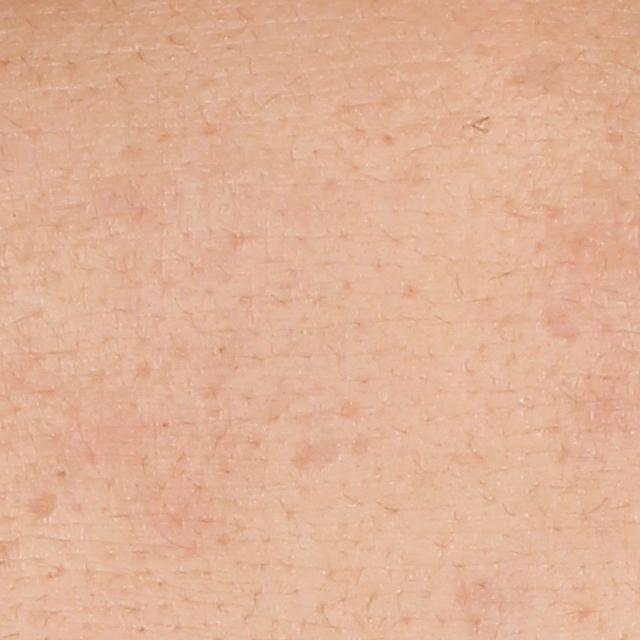atrophic_scar: (287, 432, 344, 474), (541, 296, 585, 350), (20, 489, 59, 532)
comedo: (54, 463, 68, 481)
